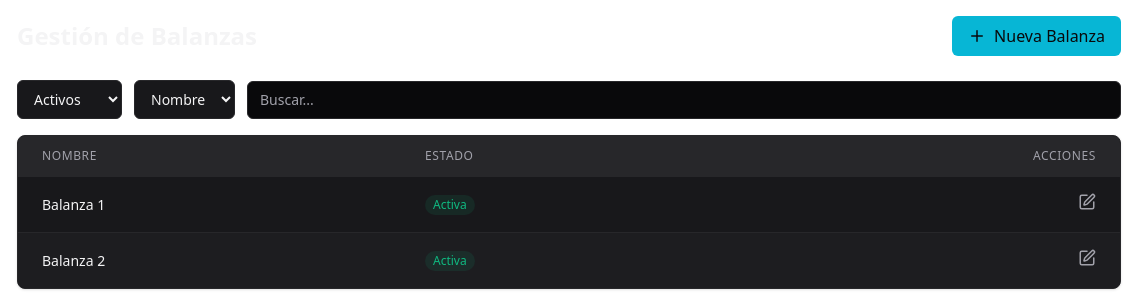
it: BalanzasPage › switching status dropdown to "Inactivos" shows only inactivas
Expected: the text "Balanza 1" is shown, [18,176,401,232]
Select "Inactivos" in the 1st dropdown at coordinates (70, 100), box [17,80,122,119]
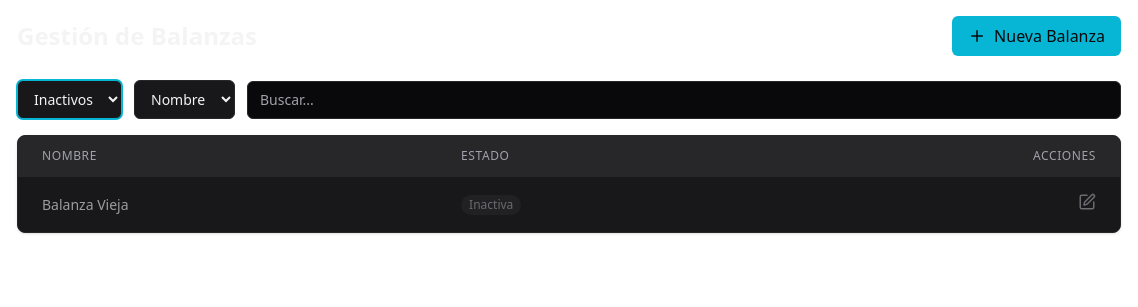
Now the text "Balanza Vieja" is shown, box [18,176,437,232]
Now the text "Balanza 1" is gone
